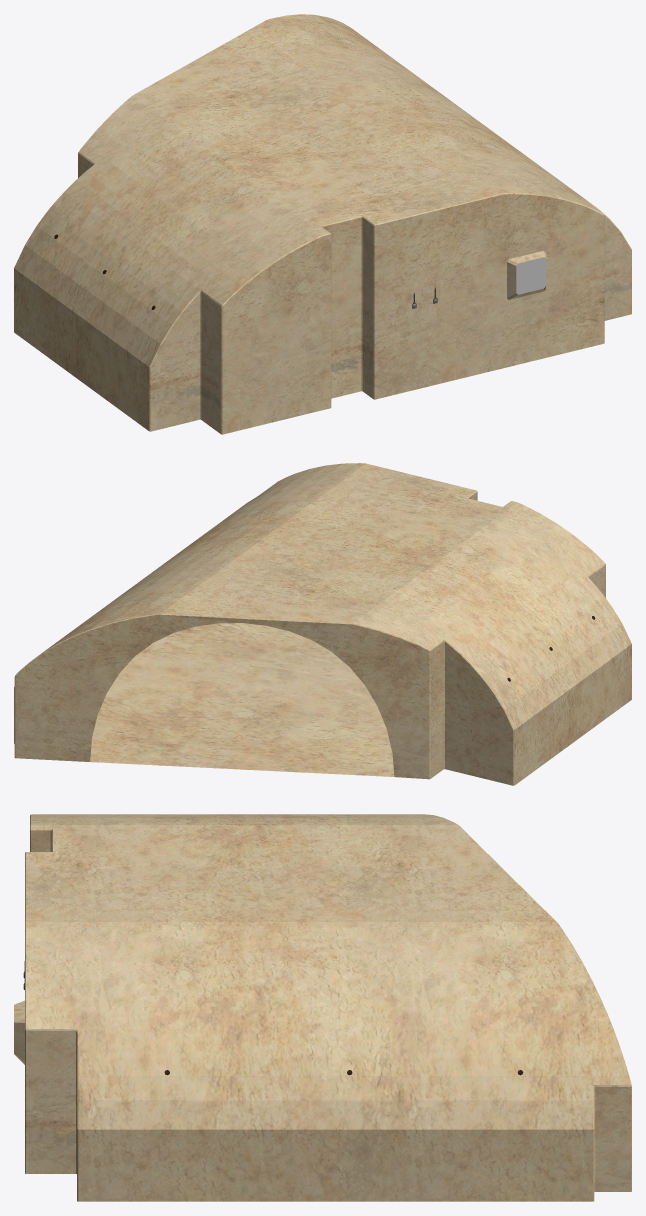
The model's file is thm_tato_cantina_r9_alcove5_mesh_r9.fbx.
The picture shows the model from 3 angles, top to bottom: view 1: azimuth 30°, elevation 25°; view 2: azimuth 150°, elevation 25°; view 3: azimuth 270°, elevation 25°; orthographic projection. The views are drawn at different scales.
Visible parts, largest first — view 1: mesh_node; view 2: mesh_node; view 3: mesh_node.
Part boxes in pixels (<box>): mesh_node: <box>14,14,631,434</box>; mesh_node: <box>14,463,631,785</box>; mesh_node: <box>14,814,631,1201</box>.
Bounding box in the file's own units: 12 × 4.15 × 11.86.
